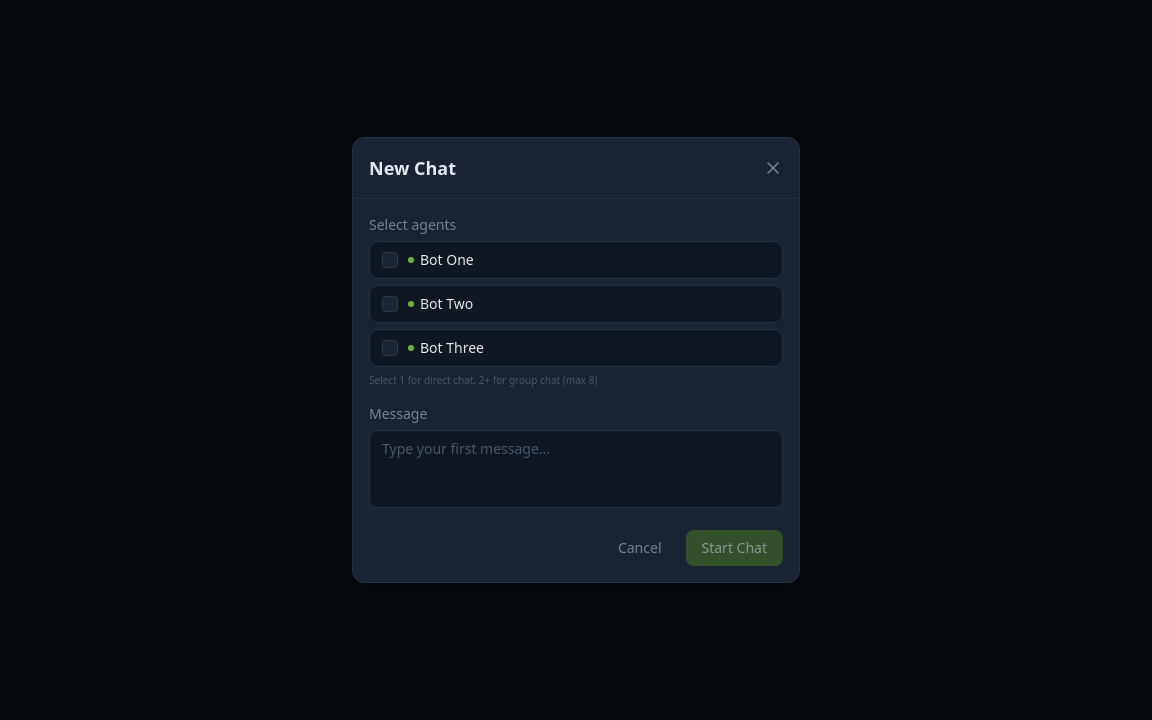
NewThreadDialog › shows "Start Group Chat" for multi-agent selection
The width and height of the screenshot is (1152, 720).
Note: Select two agents → group mode
What coordinates should you click on to do the following:
click the text "Bot One"
I would click on:
 (447, 260)
Its box is [420,250,474,270].
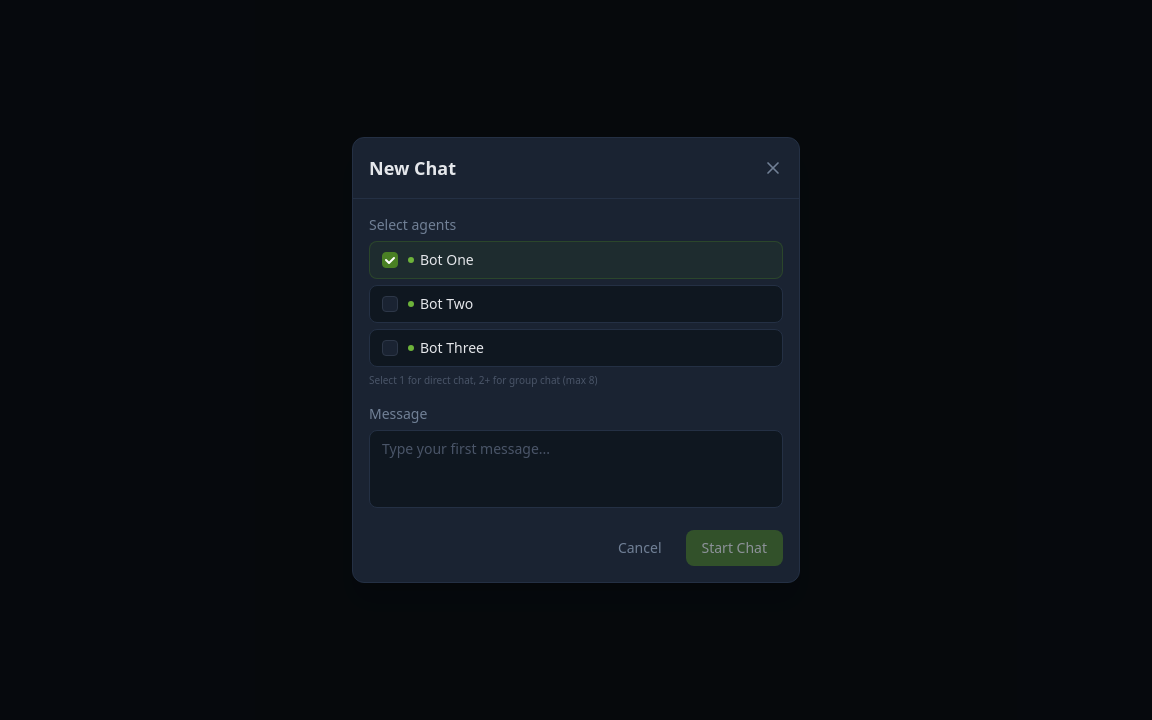
What coordinates should you click on to do the following:
click the text "Bot Two"
I would click on:
 (447, 304)
Its box is [420,294,473,314].
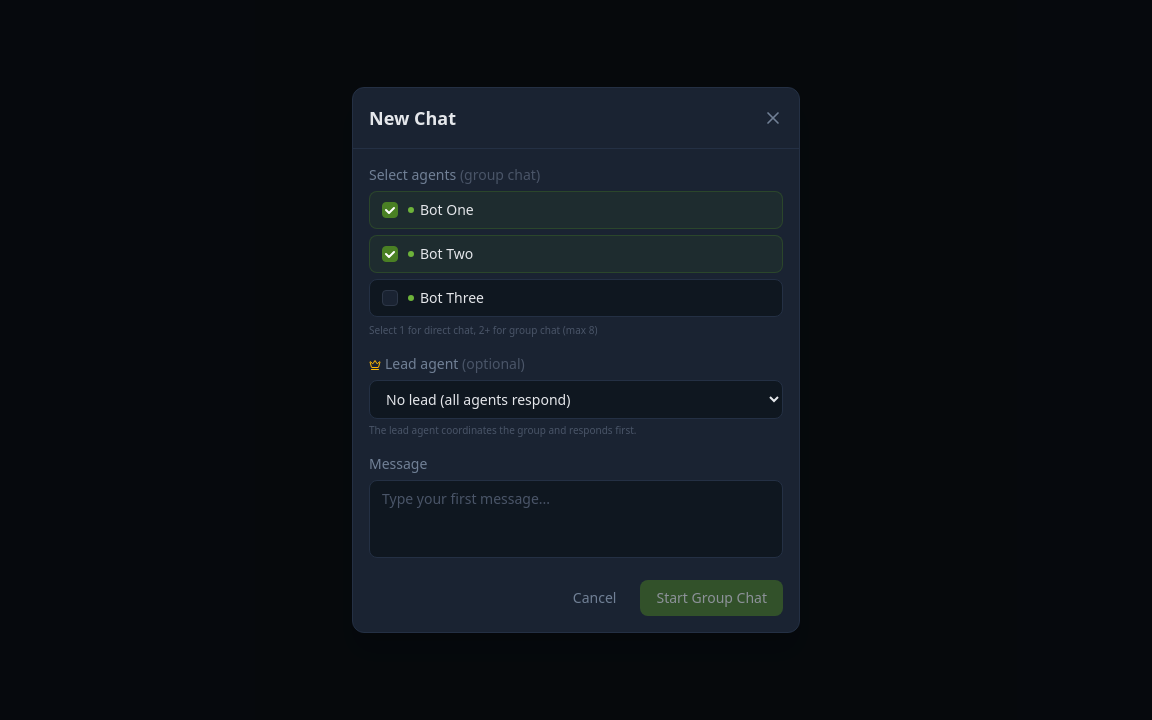
Expected: the button "Start Group Chat" is shown, [640,580,783,616]
